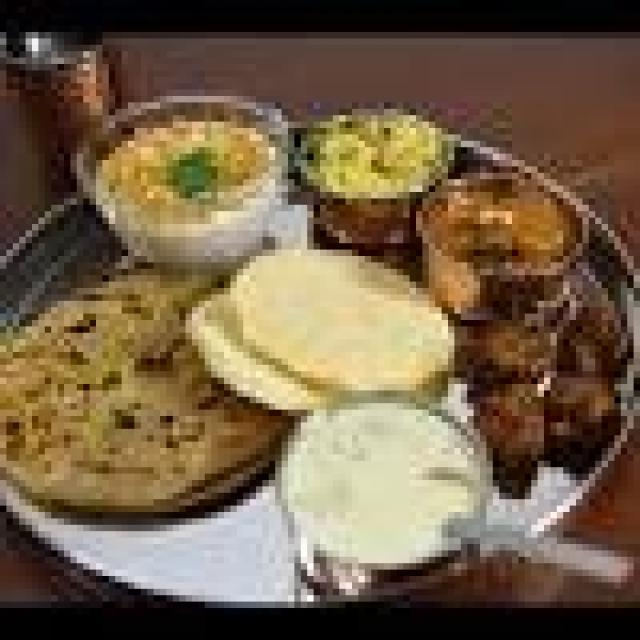dal: (193, 244, 454, 413), (283, 395, 480, 569), (96, 98, 281, 259), (292, 101, 447, 214)
roti: (6, 284, 217, 492), (414, 159, 593, 299)
